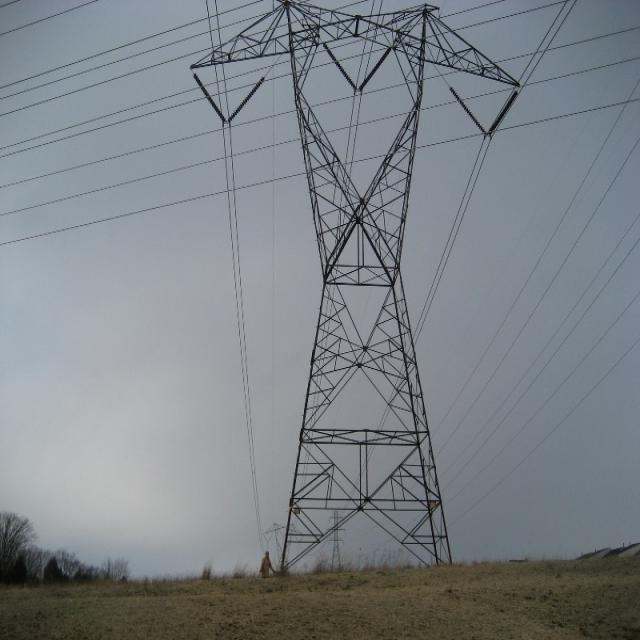non-critical vegetation: (188, 2, 503, 580)
